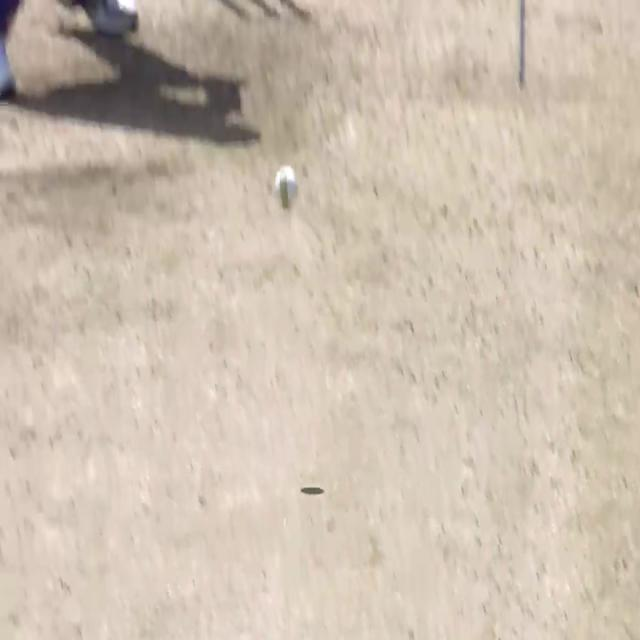ball: (273, 165, 297, 207)
